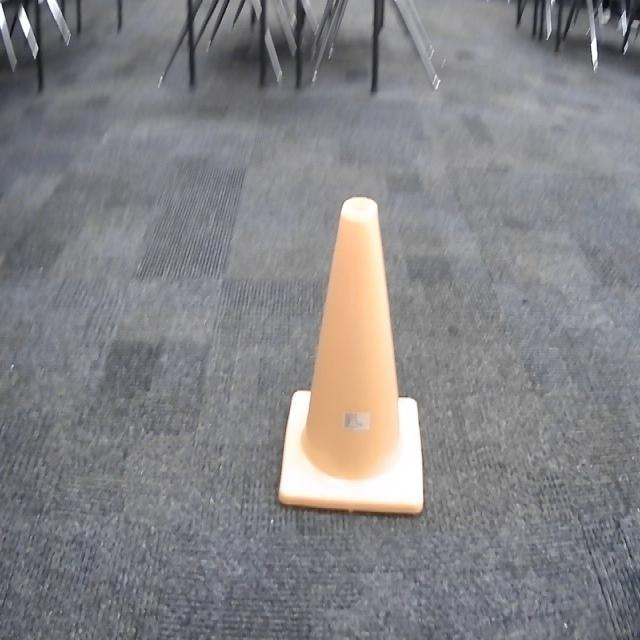cone: (277, 192, 426, 518)
